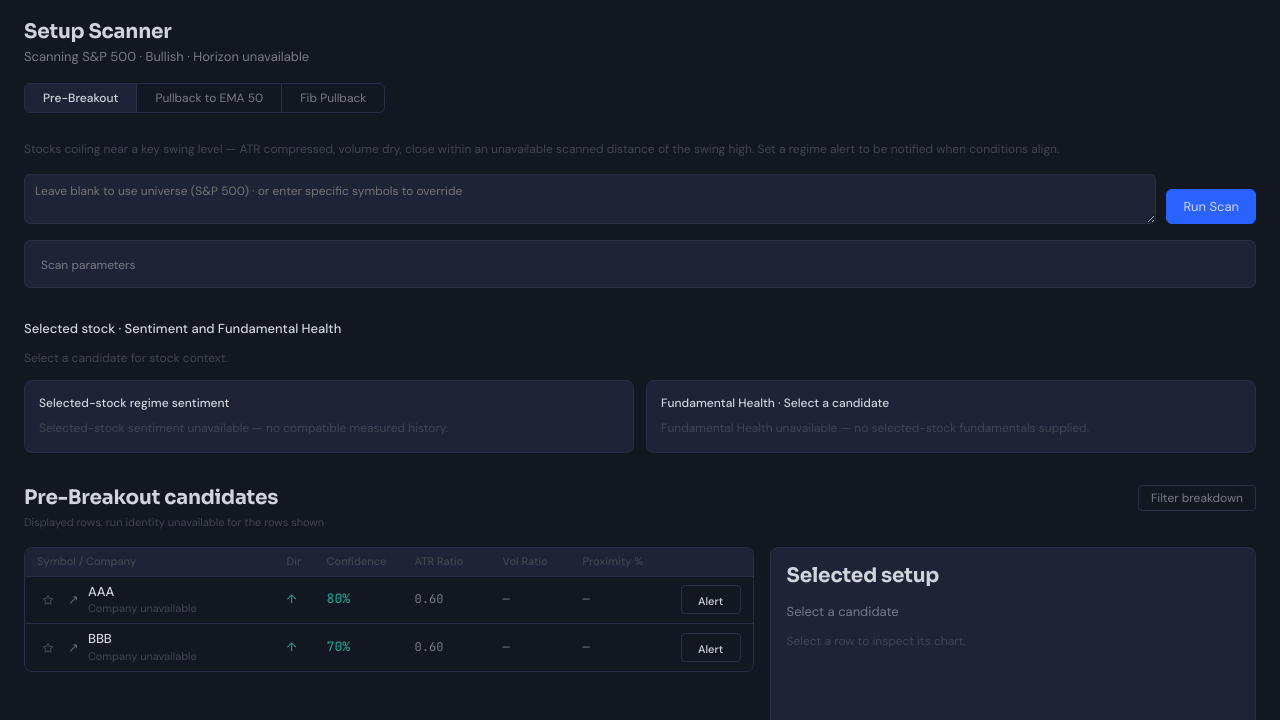
{} mode has its own candidates heading and breakdown for its own category
The image size is (1280, 720).
What coordinates should you click on to do the following:
click the button "Pullback to EMA 50"
I would click on:
 (209, 98)
Its box is [136,84,281,112].
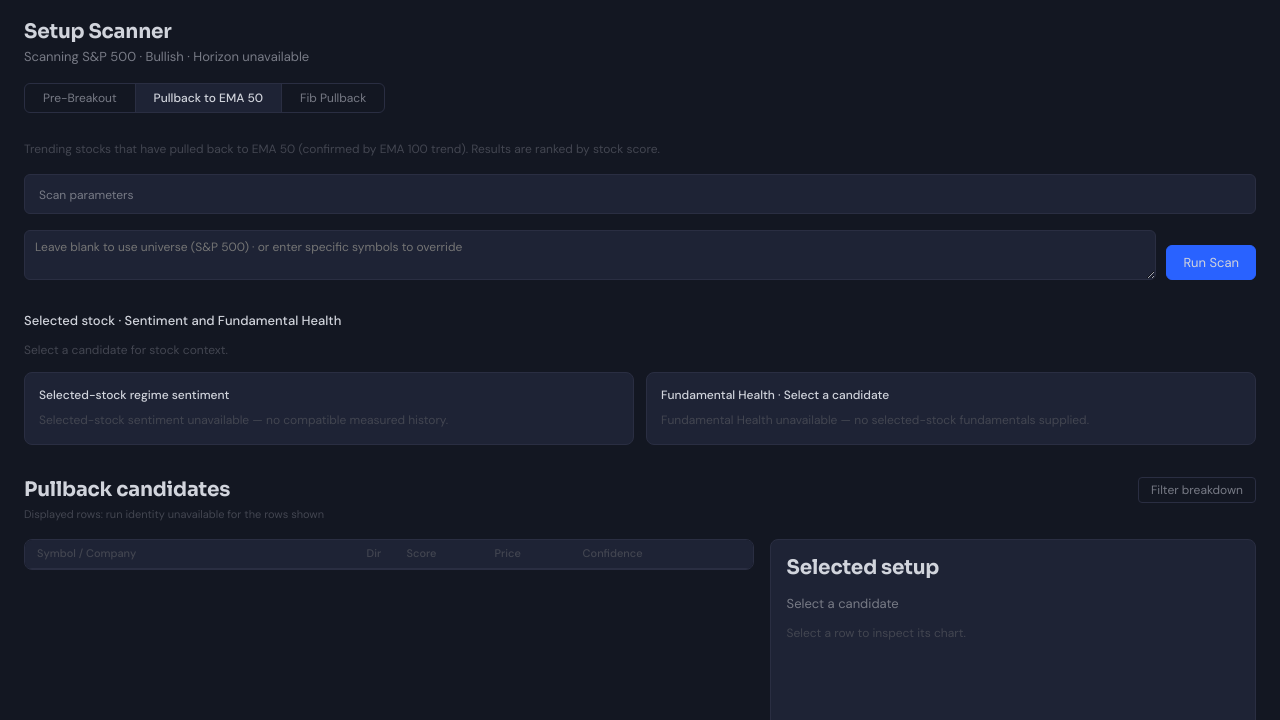
Check: the heading "Pullback candidates" is shown, box [24,478,230,502]
Check: the heading "Pre-Breakout candidates" is gone
What coordinates should you click on to do the following:
click the button "Filter breakdown"
I would click on:
 (1197, 490)
Its box is [1138,477,1256,503].
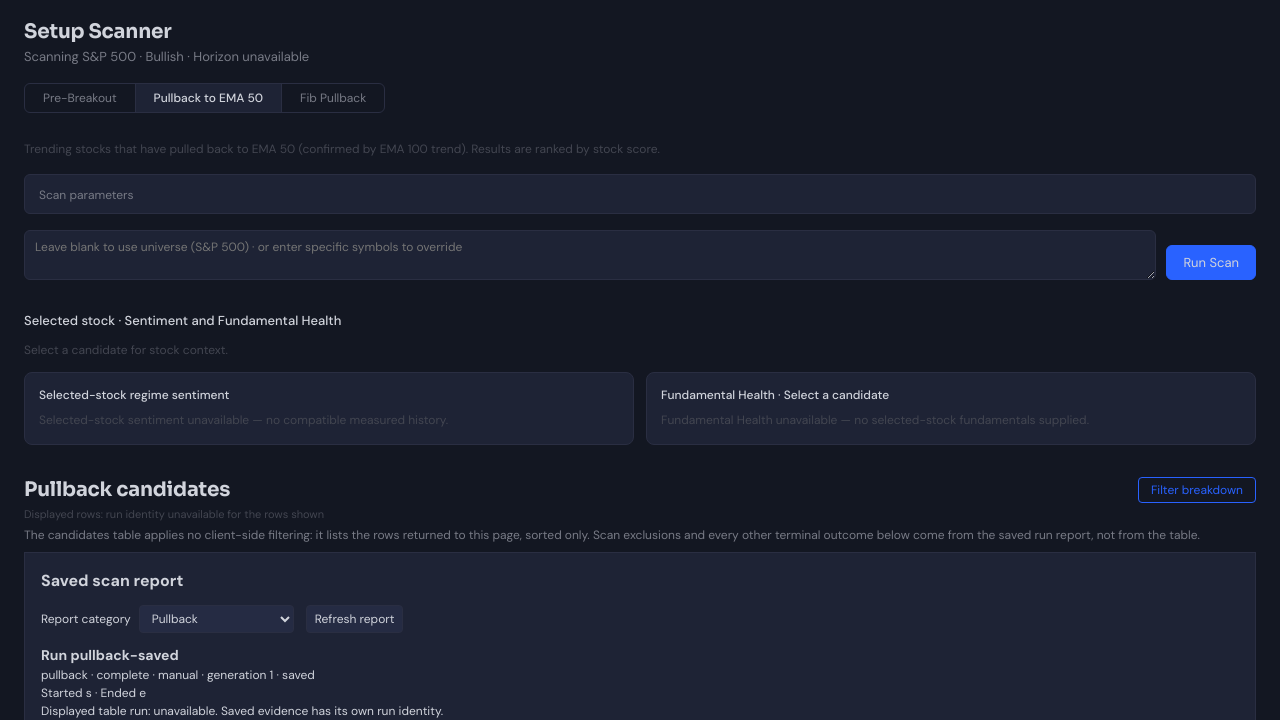
Check: the dropdown labelled "Report category" shows "Pullback", box [139,605,294,633]
